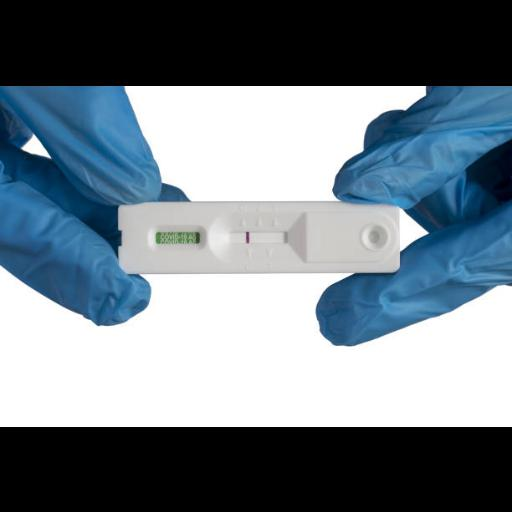Neg: (117, 200, 399, 272)
